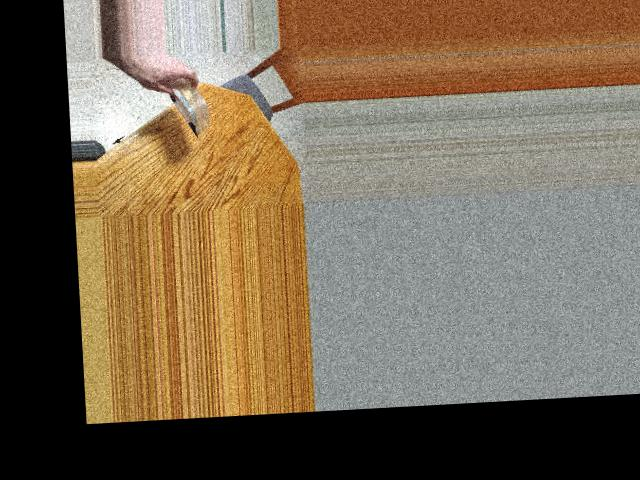cheese: (168, 73, 211, 136)
